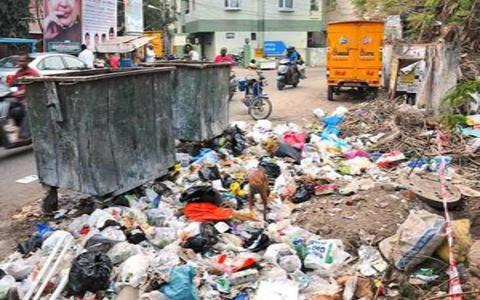overflowing garbage: (24, 65, 178, 286), (185, 65, 247, 241)
